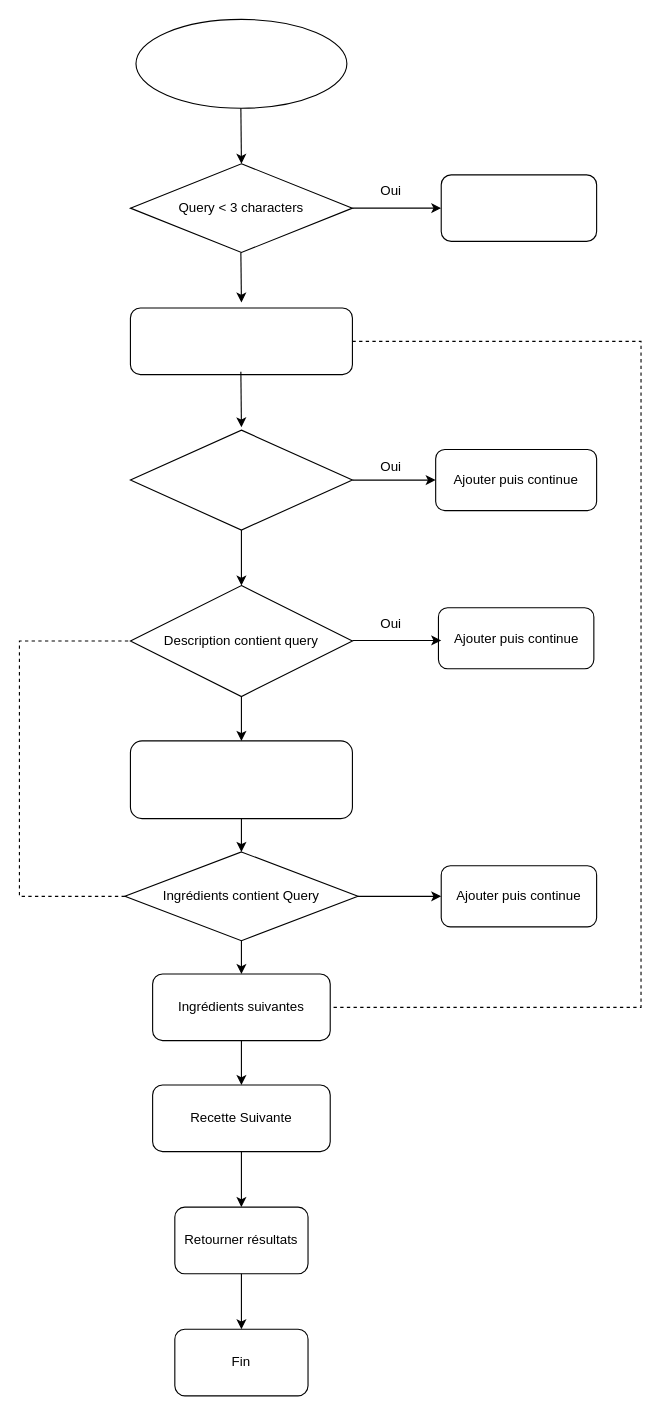
The diagram is 662 pixels wide and 1415 high, and some of its shapes have lost their labels. Here are the shapes that lost their labels. From the top down, the centre of each, then its label:
pixel 241 63: Début
pixel 518 207: Retourner la liste complète
pixel 240 341: Pour chaque recette
pixel 240 479: Name contient query
pixel 240 779: Pour chaque ingrédient
